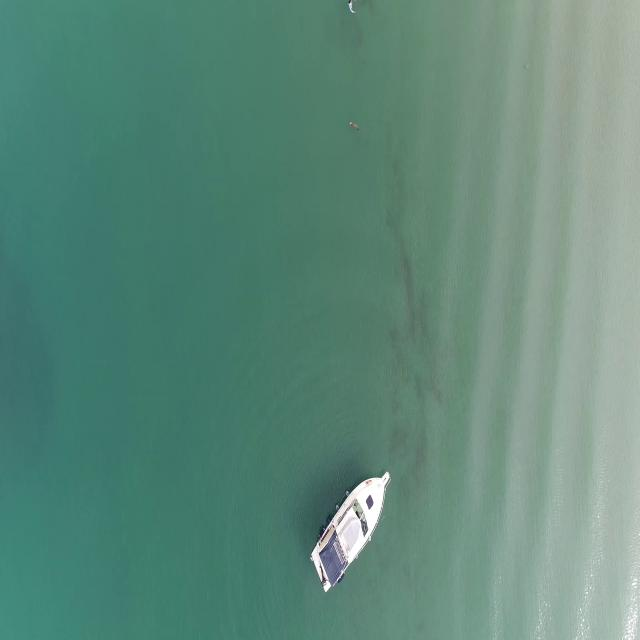boat: (312, 465, 391, 597)
person: (346, 0, 356, 16)
wood: (349, 118, 361, 132)
